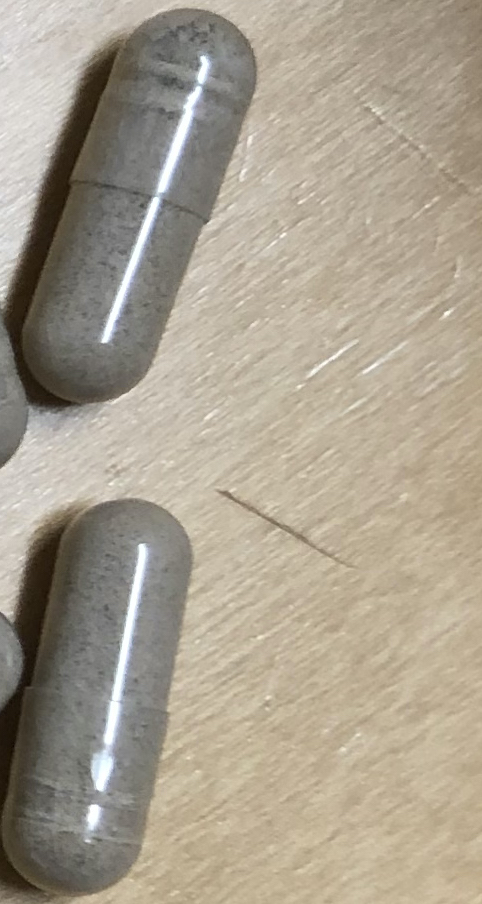capsule: (15, 8, 260, 407), (1, 500, 195, 900)
